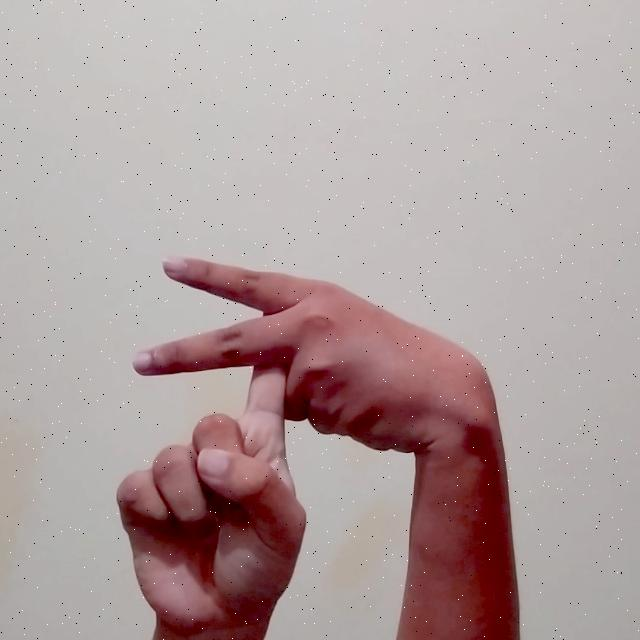F: (105, 242, 508, 632)
